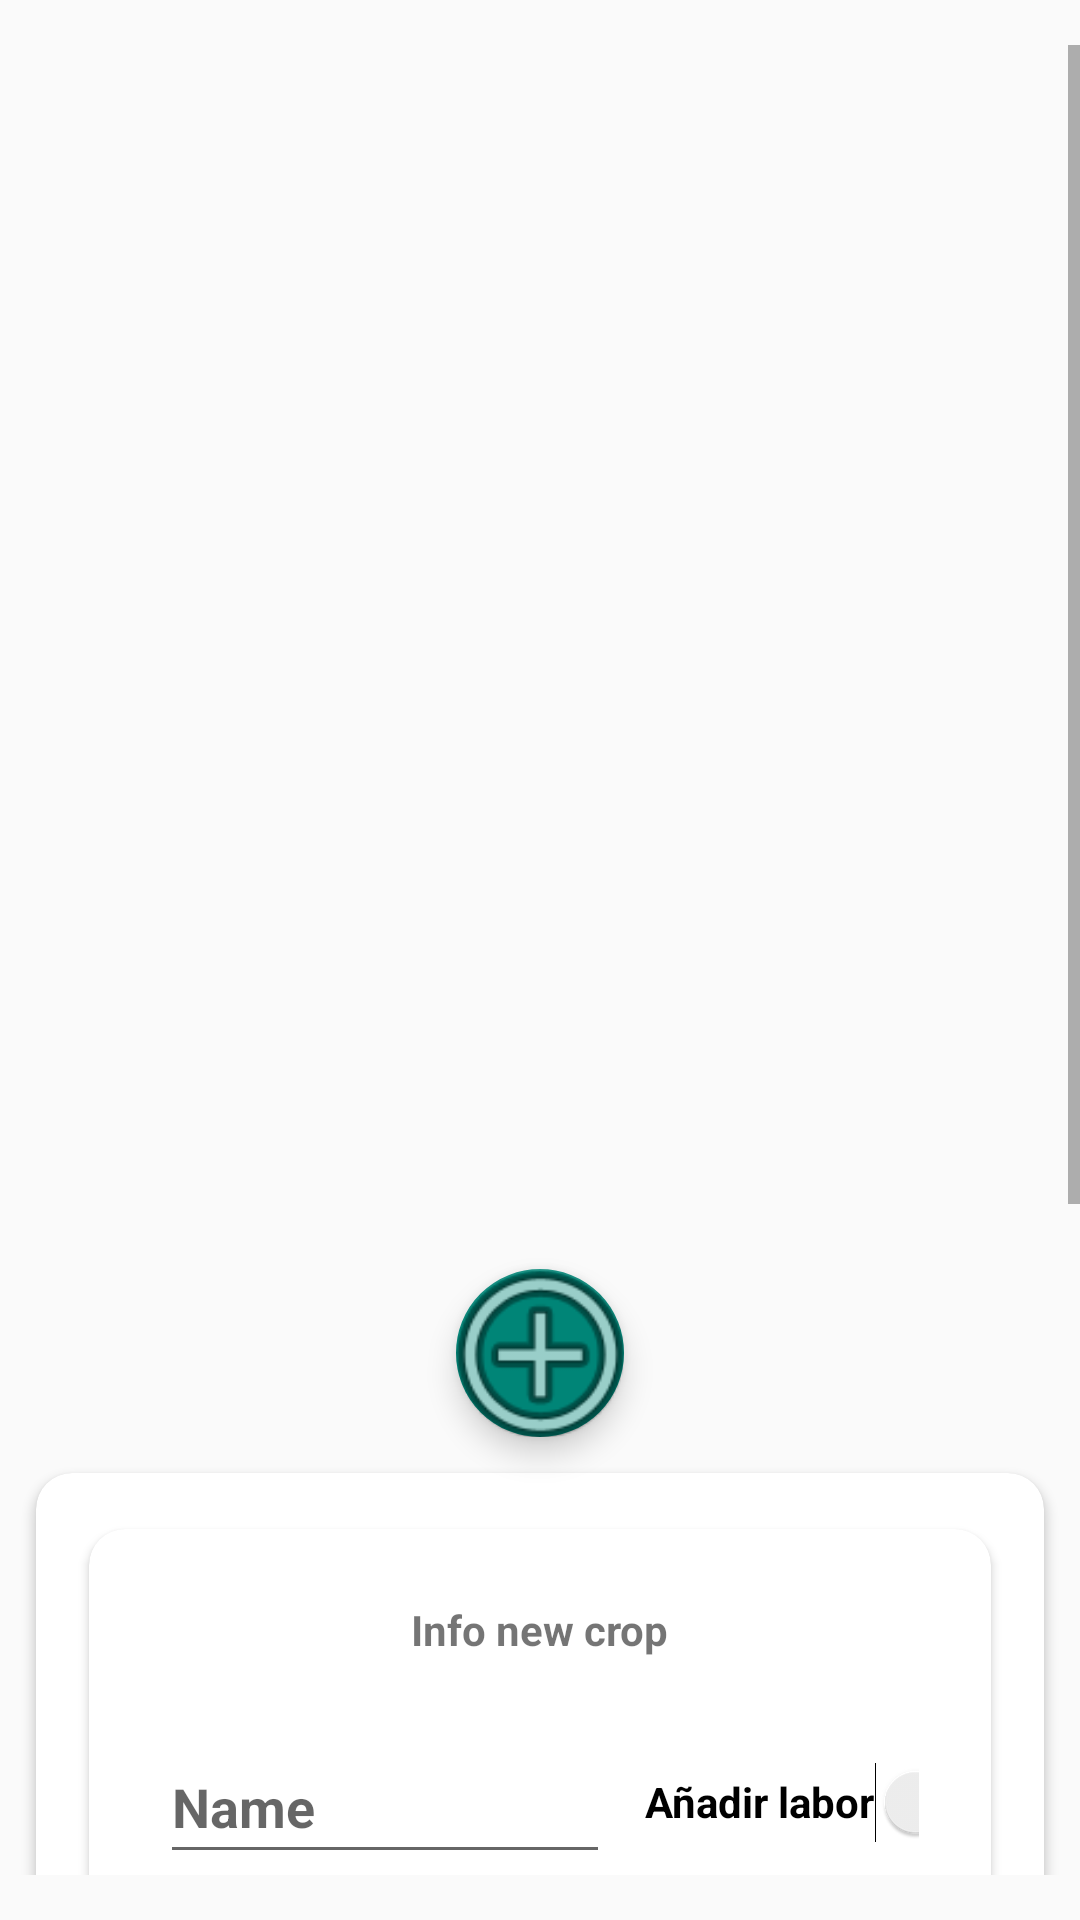

Where icons sit on this 1080×1920 app screen, as (x1,y1,x2,y2):
add: (456,1269,624,1437)
